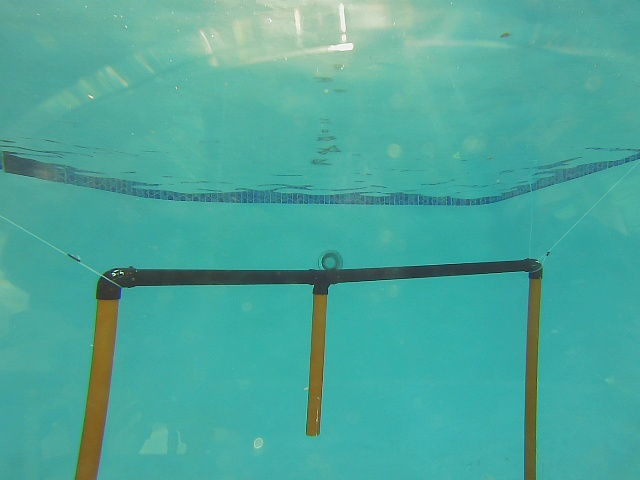Gate: (68, 294, 122, 480), (516, 272, 545, 480), (302, 289, 329, 439)
